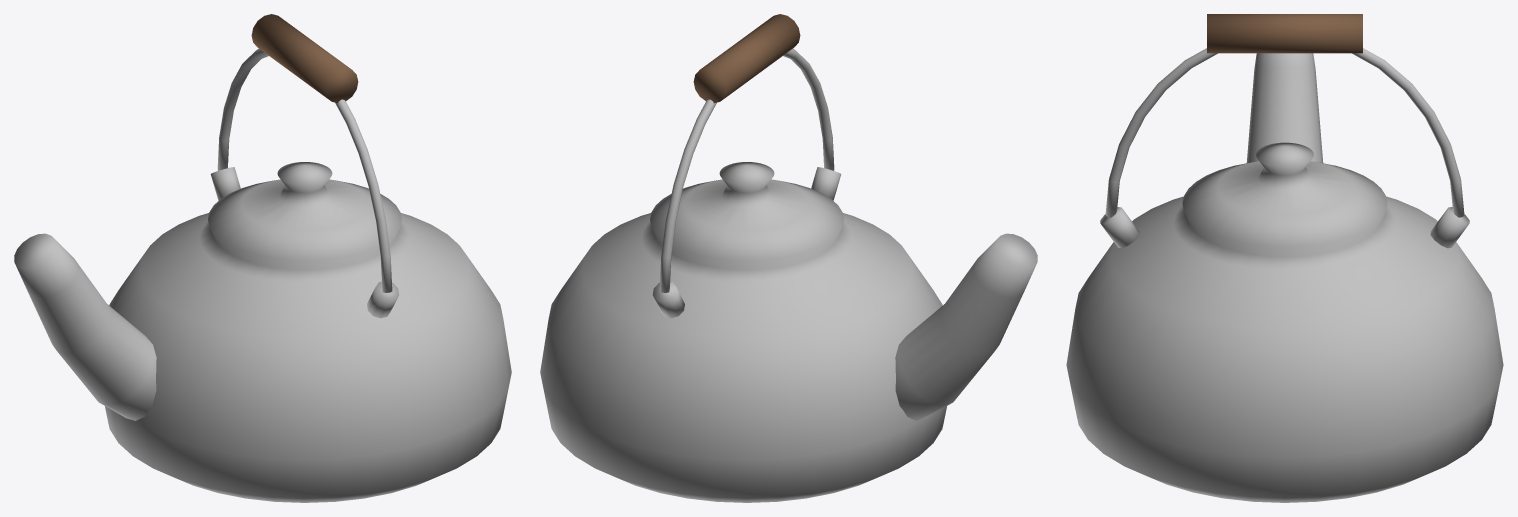
File: fx_kettle.glb
3 views of the same model, side by side, from view 1: azimuth 30°, elevation 25°; view 2: azimuth 150°, elevation 25°; view 3: azimuth 270°, elevation 25° (orthographic). The views are drawn at different scales.
Parts seen in each view (by area): view 1: fx_kettle; view 2: fx_kettle; view 3: fx_kettle.
Part boxes in pixels (x1,y1,x2,y2): fx_kettle: [14, 14, 511, 502]; fx_kettle: [540, 14, 1037, 502]; fx_kettle: [1066, 14, 1503, 502].
Size of the model in its own units: 0.2553 by 0.2028 by 0.196.
